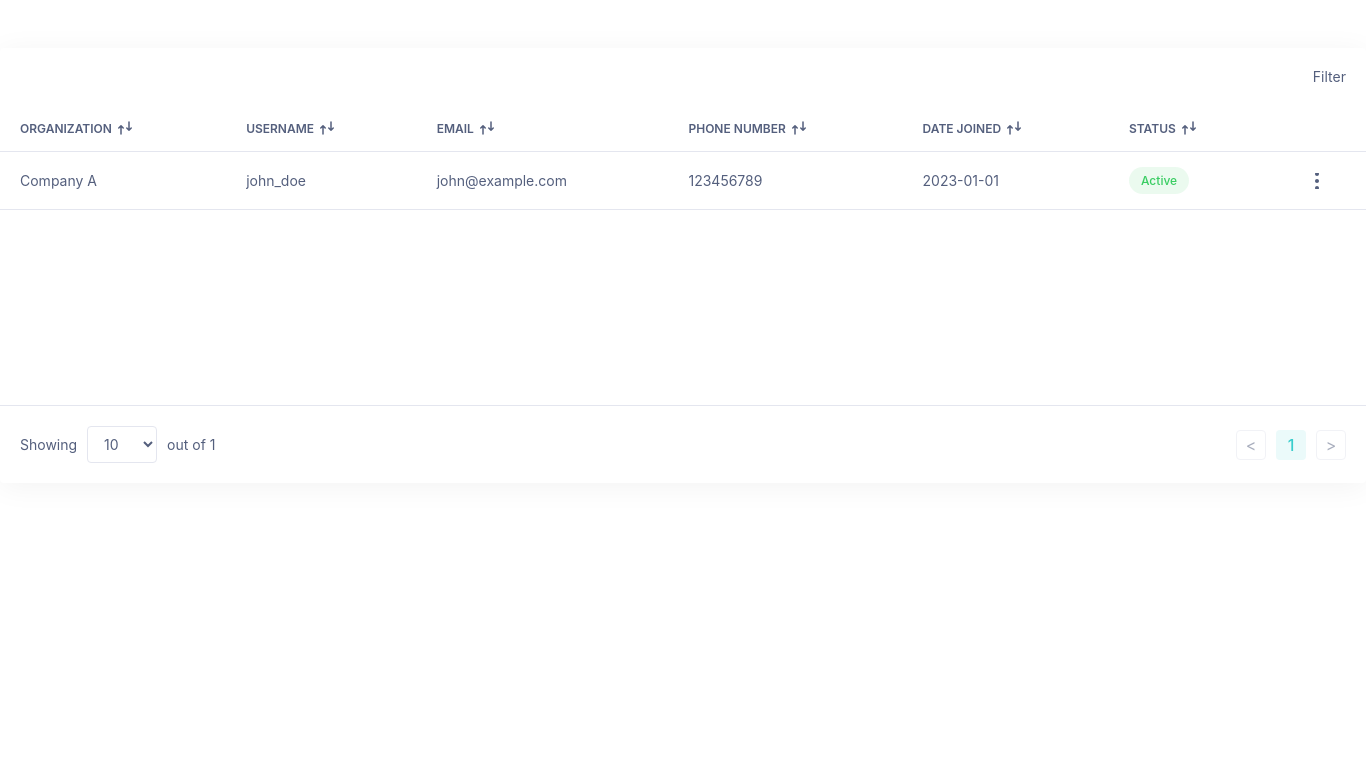
Test case: DataTable › shows error message for invalid phonenumber
Click the button "Filter": (1329, 76) [1313, 68, 1346, 85]
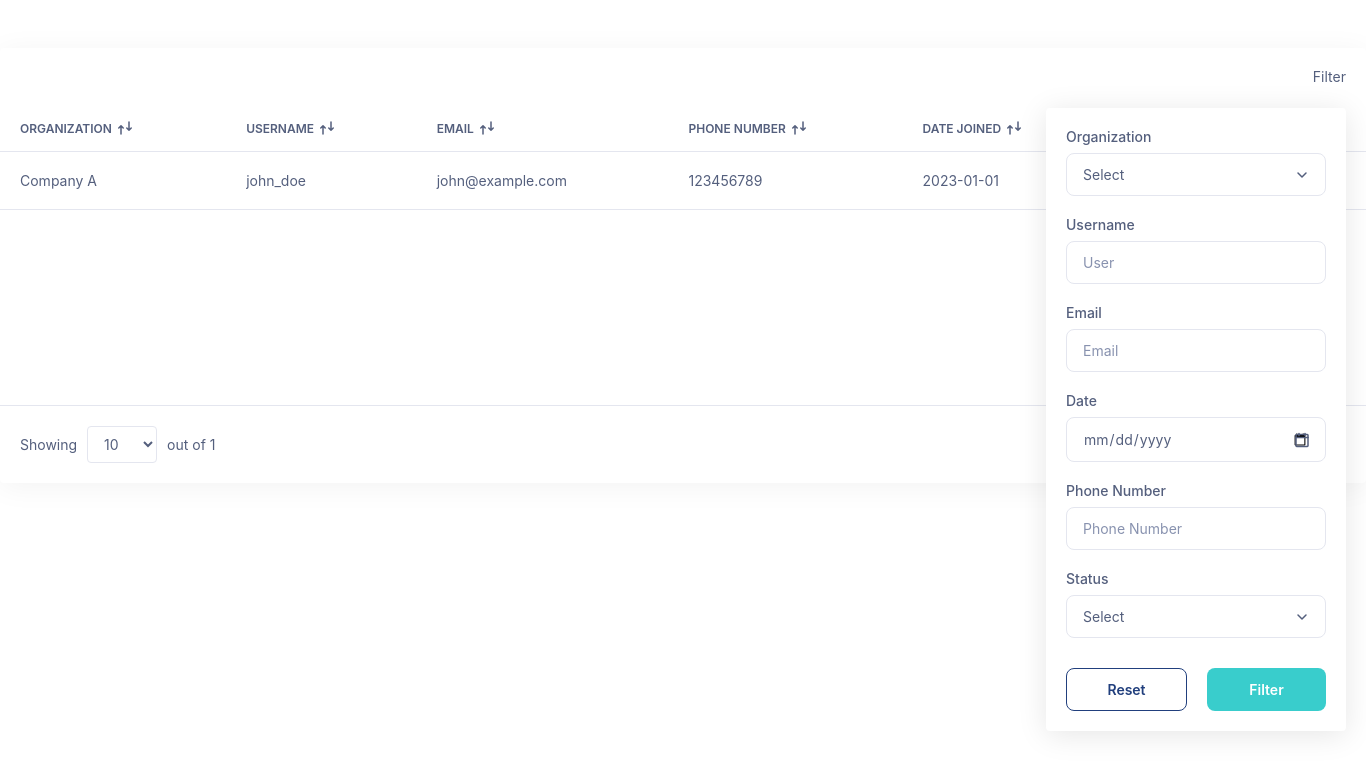
In the field labelled "Phone Number": (1196, 528) [1066, 507, 1326, 550], type "123"
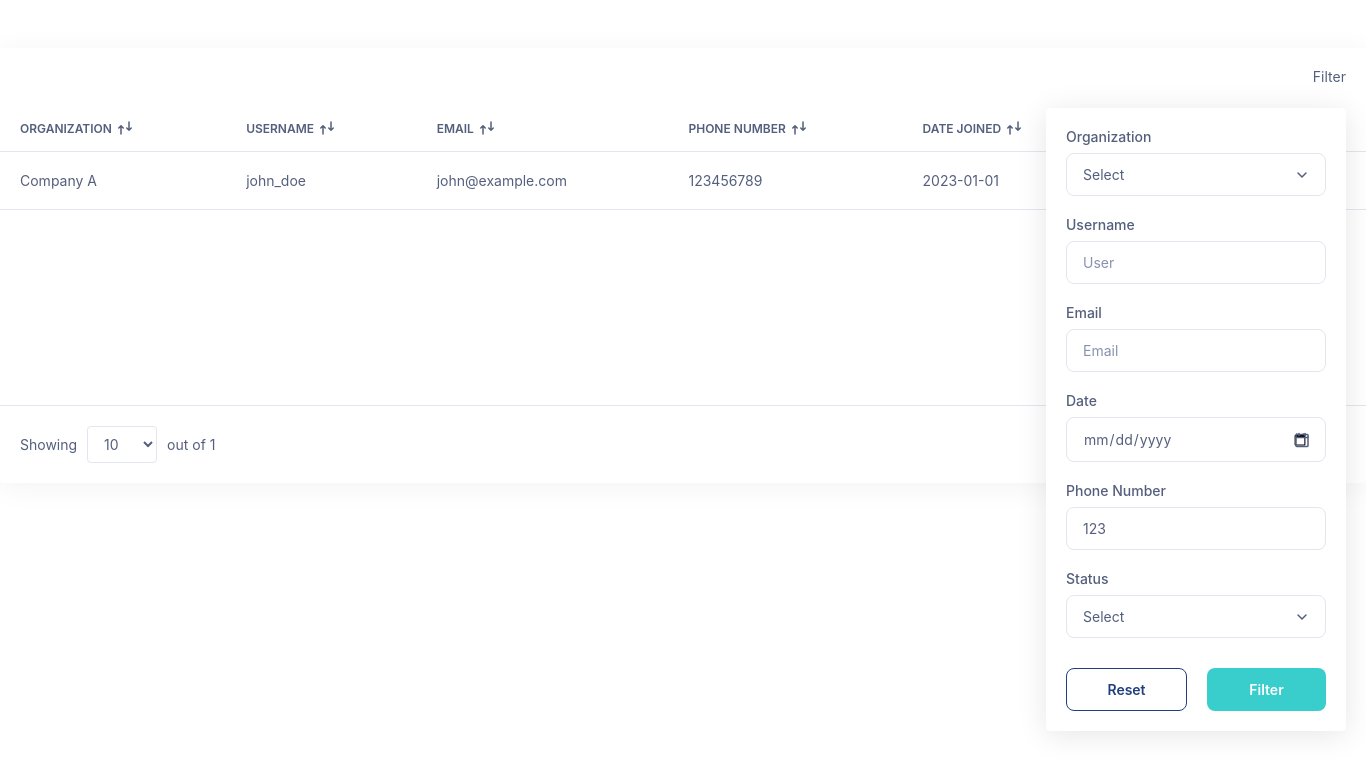
Click the button with test id "submit": (1266, 690) [1207, 668, 1326, 711]
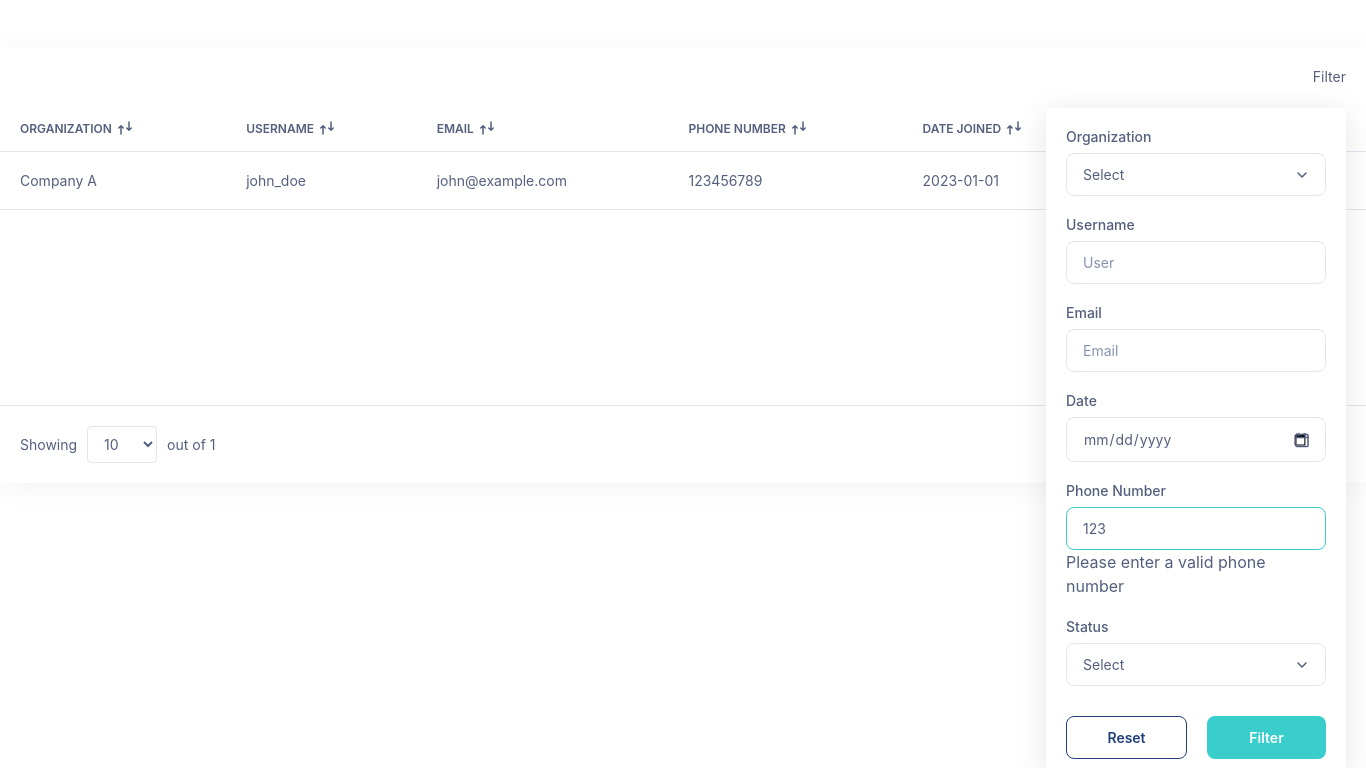
Result: the text "Please enter a valid phone number" is shown at [1066, 552, 1266, 596]
